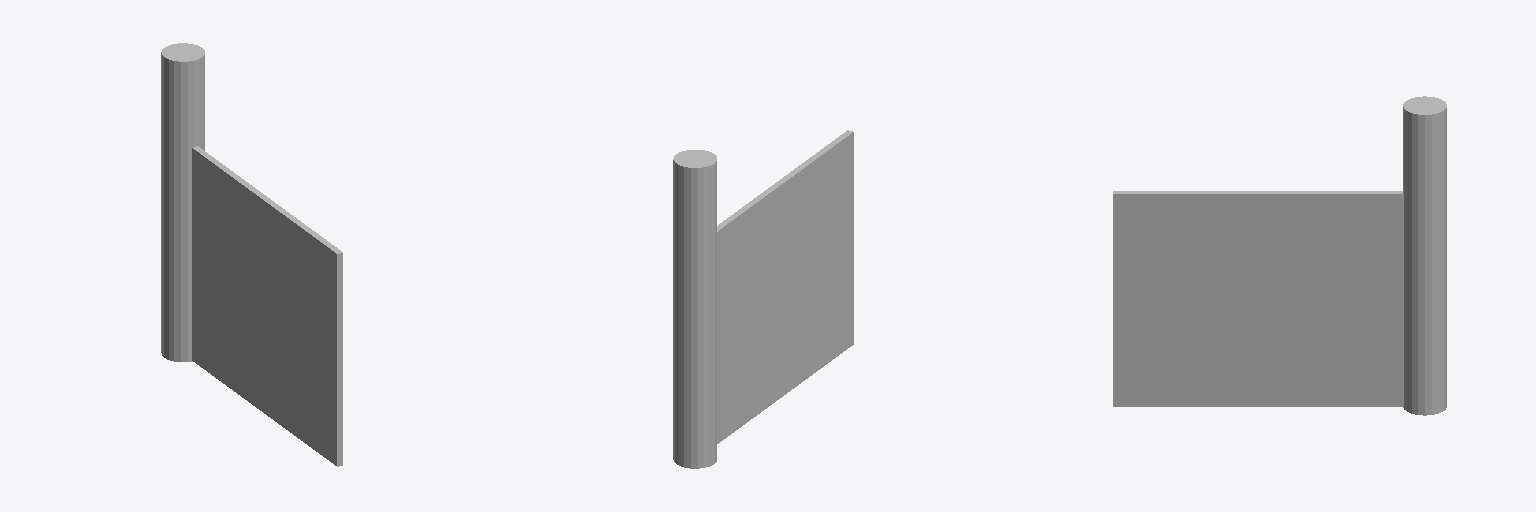
The model's file is walldouble10.obj.
3 views of the same model, side by side, from view 1: azimuth 30°, elevation 25°; view 2: azimuth 150°, elevation 25°; view 3: azimuth 270°, elevation 25° (orthographic).
Parts seen in each view (by area): view 1: walldouble10; view 2: walldouble10; view 3: walldouble10.
Part boxes in pixels (left/top/right/bottom): walldouble10: left=161, top=43, right=342, bottom=466; walldouble10: left=673, top=130, right=853, bottom=468; walldouble10: left=1113, top=96, right=1446, bottom=415.
Size of the model in its own units: 3.28 by 24.63 by 24.83.